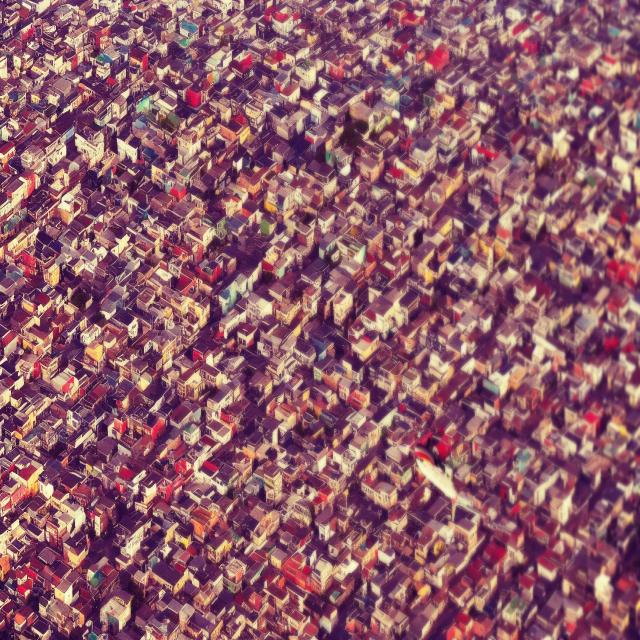airplane: (413, 443, 487, 522)
